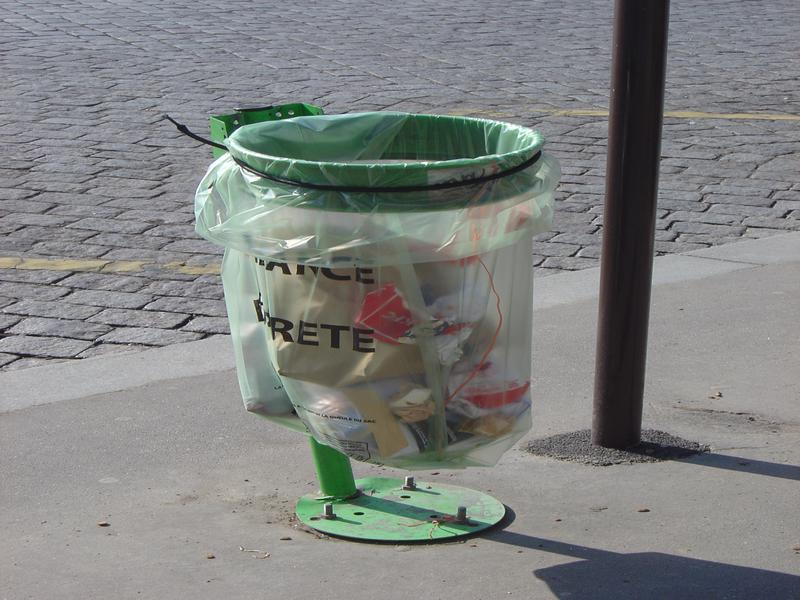plastic: (192, 163, 577, 474)
